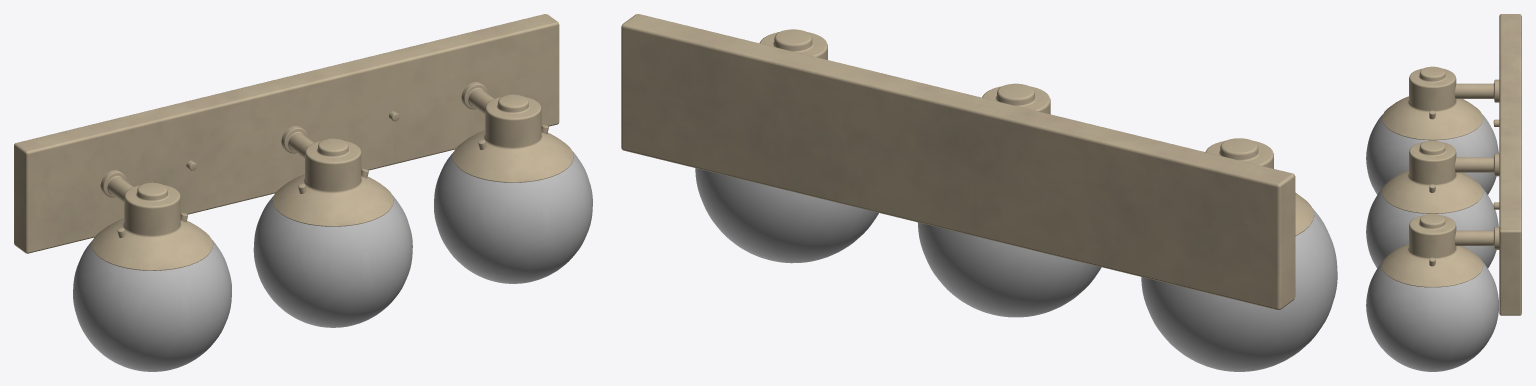
Rendered from abo-B07QJM4QK6.glb.
3 renders of one model, left to right at view 1: azimuth 30°, elevation 25°; view 2: azimuth 150°, elevation 25°; view 3: azimuth 270°, elevation 25°, orthographic. The views are drawn at different scales.
Bounding box in the file's own units: 0.721 × 0.263 × 0.218.
Materials: 1 (1 with a texture image).
